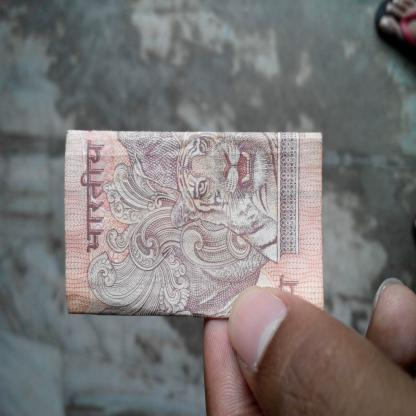Old10Back: (64, 129, 328, 316)
